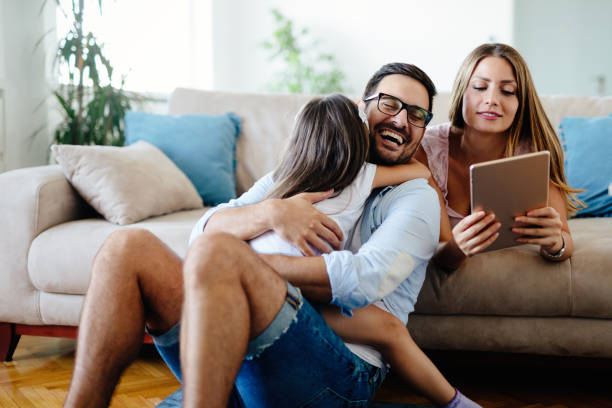without mask: (365, 65, 436, 165), (453, 49, 520, 136)
